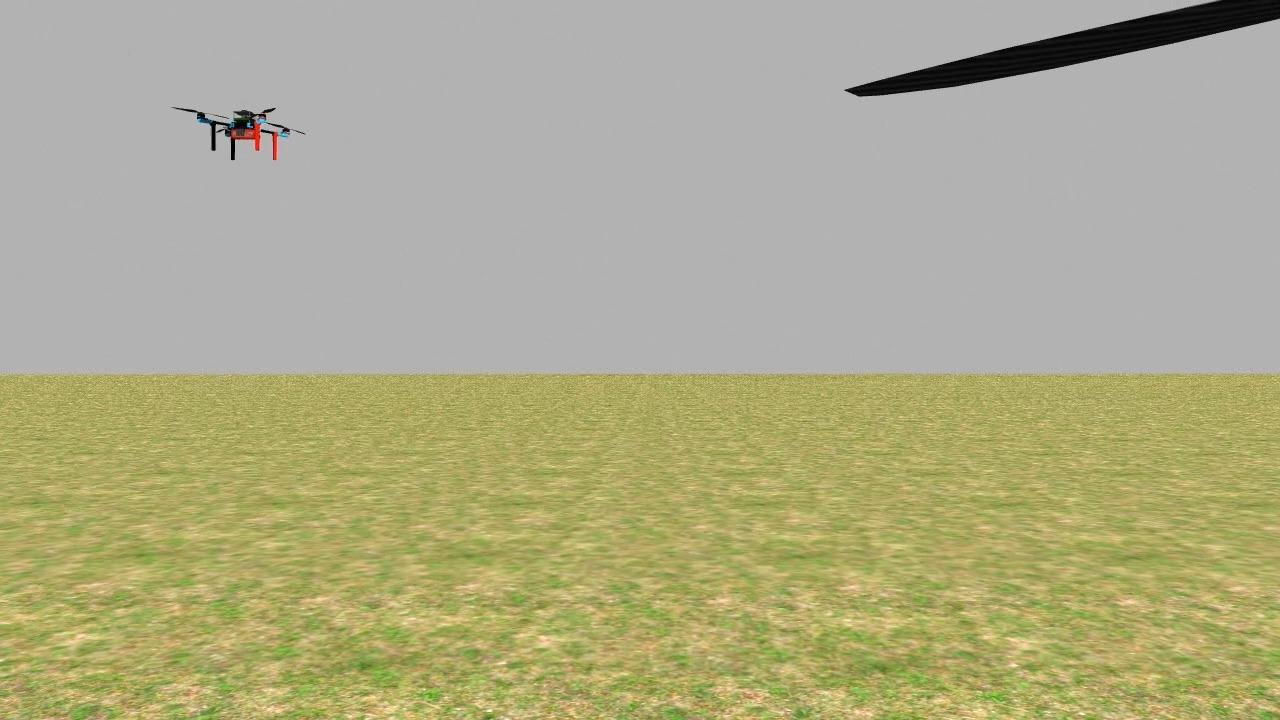UAV: (178, 90, 316, 176)
